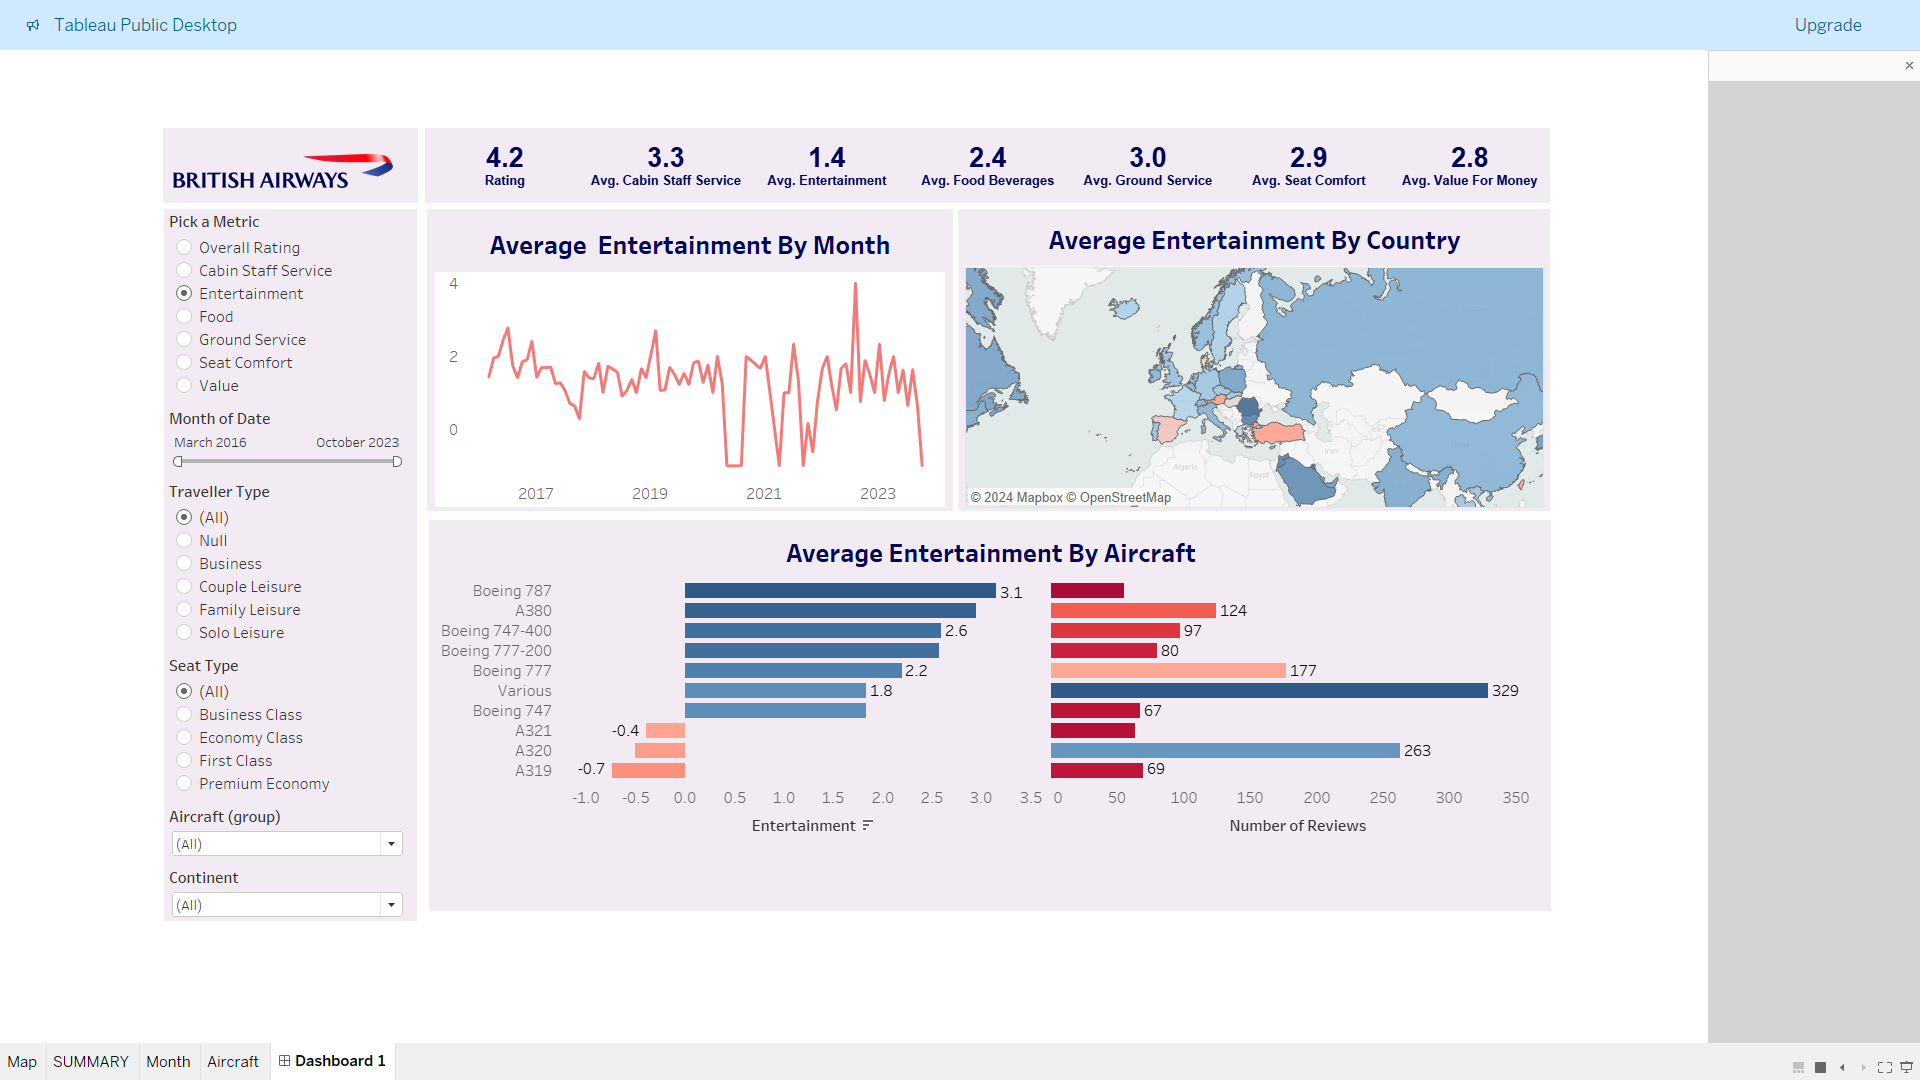

This screenshot's page, from the dashboard's own definition file:
{"tool":"tableau","page":{"name":"Dashboard 1","canvas":[1400,850],"ordinal":0},"visuals":[{"type":"blank","box":[5,3.2,263,82.9]},{"type":"worksheet","title":"SUMMARY","mark":"Automatic","box":[267,3.2,1133,82.9]},{"type":"image","param":"Image/kisspng-british-airways-salzburg-airport-airline-check-in-5ae44ee41b6136.6","box":[7,8.5,243,80.8]},{"type":"parameter","param":"[Parameters].[Parameter 1]","box":[11,85.7,245,197]},{"type":"blank","box":[10,88,253,712]},{"type":"blank","box":[273,88,526,302]},{"type":"blank","box":[804,88,592,302]},{"type":"worksheet","title":"Map","mark":"Multipolygon","box":[811,97,579,290]},{"type":"worksheet","title":"Month","mark":"Automatic","rows":["Calculation_1228075376476176384"],"cols":["date"],"box":[281,102,510,284]},{"type":"filter","title":"Map","param":"[federated.11w8srq1hapd9a16zyrw60xeq5wv].[tmn:date:qk]","box":[11,282.7,245,73]},{"type":"filter","title":"Map","param":"[federated.11w8srq1hapd9a16zyrw60xeq5wv].[none:traveller_type:nk]","box":[11,355.7,245,174]},{"type":"blank","box":[275,399,1122,391]},{"type":"worksheet","title":"Aircraft","mark":"Automatic","cols":["Calculation_1228075376476176384","ba_reviews.csv_7F308C2C09A4468E8A3DF4DBD58DF157"],"box":[283,410,1108,377]},{"type":"filter","title":"Map","param":"[federated.11w8srq1hapd9a16zyrw60xeq5wv].[none:seat_type:nk]","box":[11,529.7,245,151]},{"type":"filter","title":"Map","param":"[federated.11w8srq1hapd9a16zyrw60xeq5wv].[Aircraft (group)]","box":[11,680.7,245,61]},{"type":"filter","title":"Map","param":"[federated.11w8srq1hapd9a16zyrw60xeq5wv].[none:Continent:nk]","box":[11,741.7,245,61]}]}

Visuals, with their boxes on the page's 1400x850 design canvas (x1, y1, x2, y2). These are canvas units, not pixel positions in the 1920x1080 screenshot, which may show the page scaled, cropped or inside an application window:
blank: pyautogui.locateOnScreen(5, 3, 268, 86)
"SUMMARY" worksheet: pyautogui.locateOnScreen(267, 3, 1400, 86)
image: pyautogui.locateOnScreen(7, 8, 250, 89)
parameter: pyautogui.locateOnScreen(11, 86, 256, 283)
blank: pyautogui.locateOnScreen(10, 88, 263, 800)
blank: pyautogui.locateOnScreen(273, 88, 799, 390)
blank: pyautogui.locateOnScreen(804, 88, 1396, 390)
"Map" worksheet (Multipolygon marks): pyautogui.locateOnScreen(811, 97, 1390, 387)
"Month" worksheet: pyautogui.locateOnScreen(281, 102, 791, 386)
"Map" filter: pyautogui.locateOnScreen(11, 283, 256, 356)
"Map" filter: pyautogui.locateOnScreen(11, 356, 256, 530)
blank: pyautogui.locateOnScreen(275, 399, 1397, 790)
"Aircraft" worksheet: pyautogui.locateOnScreen(283, 410, 1391, 787)
"Map" filter: pyautogui.locateOnScreen(11, 530, 256, 681)
"Map" filter: pyautogui.locateOnScreen(11, 681, 256, 742)
"Map" filter: pyautogui.locateOnScreen(11, 742, 256, 803)
